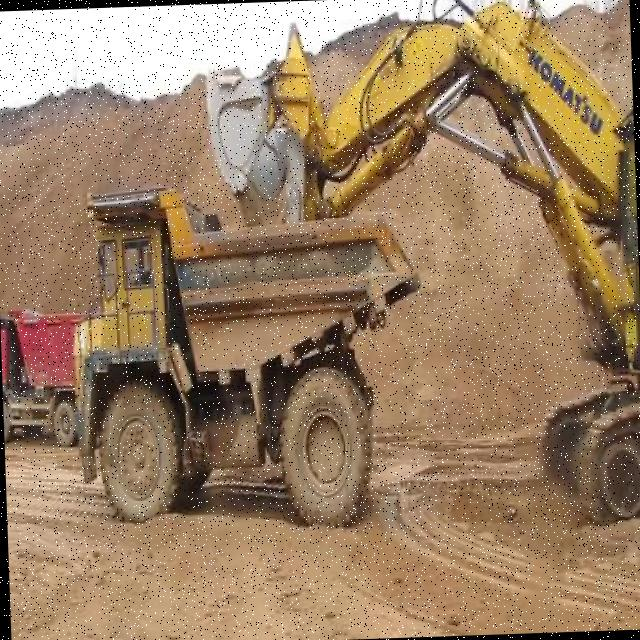Dump Truck: (64, 175, 429, 539), (0, 306, 78, 448)
Excavator: (201, 0, 640, 539)
